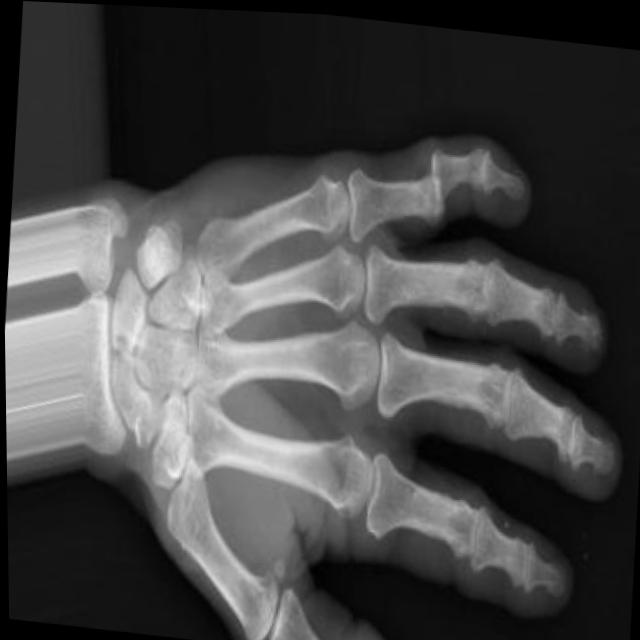fracture: (415, 135, 455, 221)
